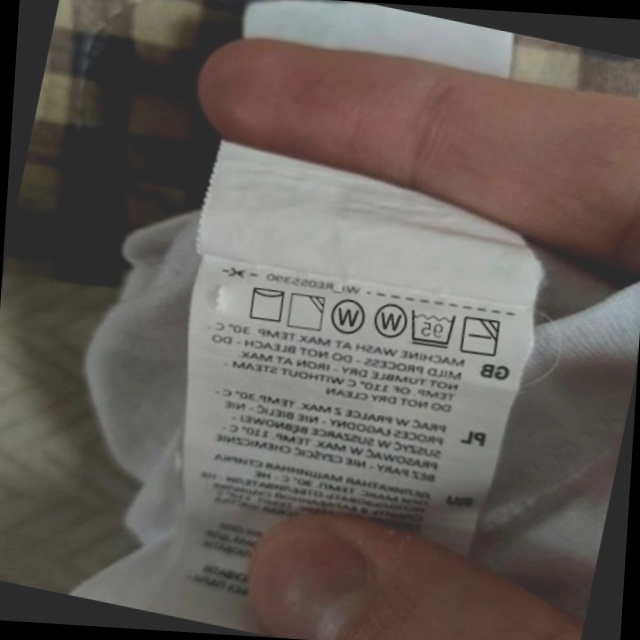95C: (403, 303, 461, 354)
dry_flat_in_shade: (456, 309, 506, 362)
line_dry: (241, 279, 291, 328)
shade_dry: (282, 287, 330, 336)
wet_clean: (324, 293, 371, 342), (366, 294, 412, 344)
